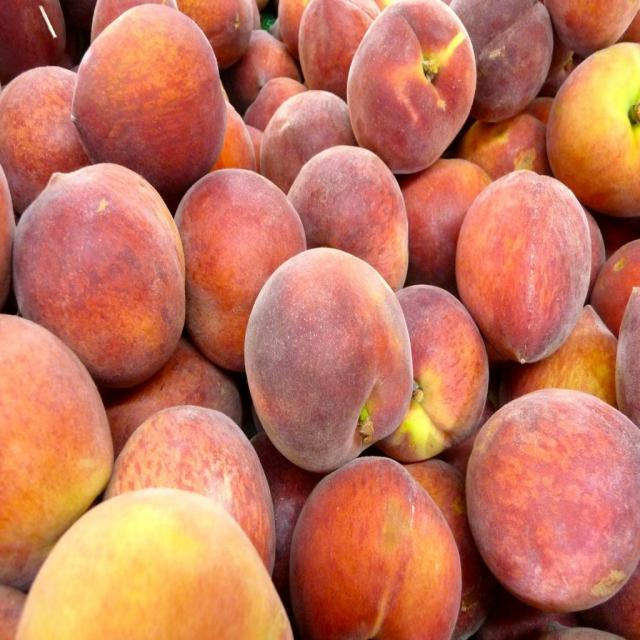Peach: (0, 1, 639, 639), (345, 7, 479, 171)
